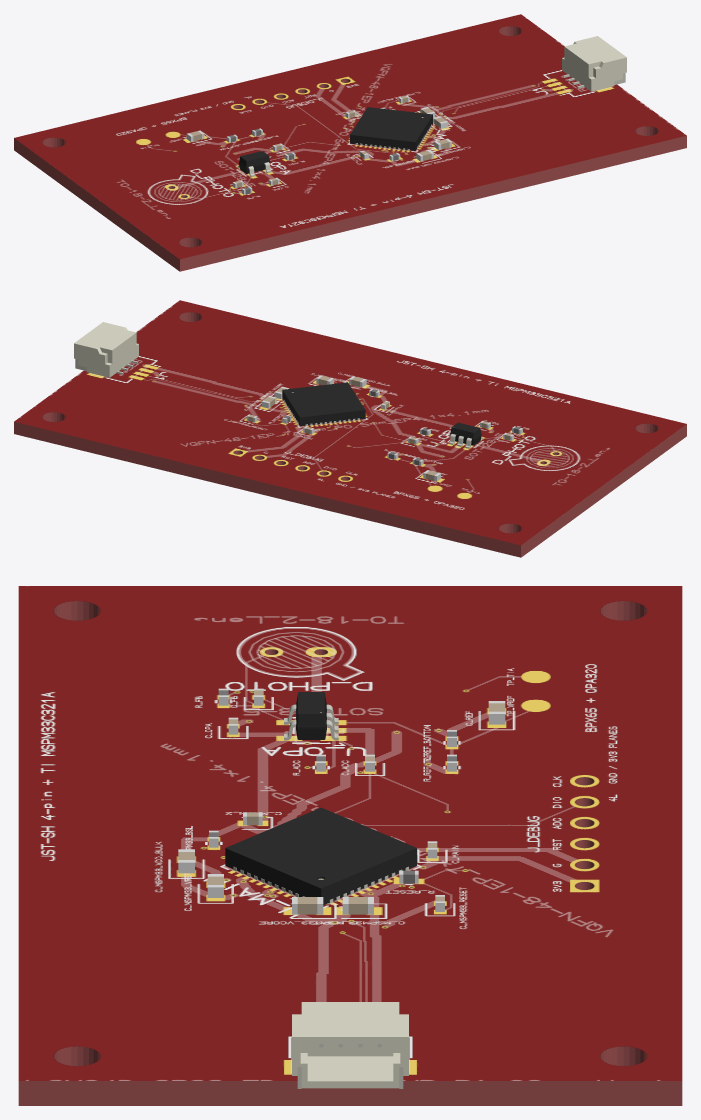
3 views of the same model, one above another, from view 1: azimuth 30°, elevation 25°; view 2: azimuth 150°, elevation 25°; view 3: azimuth 270°, elevation 25° (orthographic). The views are drawn at different scales.
Visible parts, largest first — view 1: Box0, U_MAIN, J1, U_OPA; view 2: Box0, U_MAIN, J1, U_OPA; view 3: Box0, U_MAIN, J1, U_OPA.
Part boxes in pixels (x1,y1,x2,y2): Box0: [14, 14, 686, 271]; U_MAIN: [350, 107, 432, 150]; J1: [562, 36, 626, 91]; U_OPA: [237, 151, 271, 176]; Box0: [14, 300, 686, 557]; U_MAIN: [282, 382, 365, 426]; J1: [74, 322, 138, 377]; U_OPA: [449, 422, 482, 448]; Box0: [18, 586, 682, 1105]; U_MAIN: [225, 807, 416, 904]; J1: [292, 1002, 408, 1088]; U_OPA: [284, 692, 338, 740].
Size of the model in its own units: 61 by 4.36 by 34.
10 materials, 2 textured.
